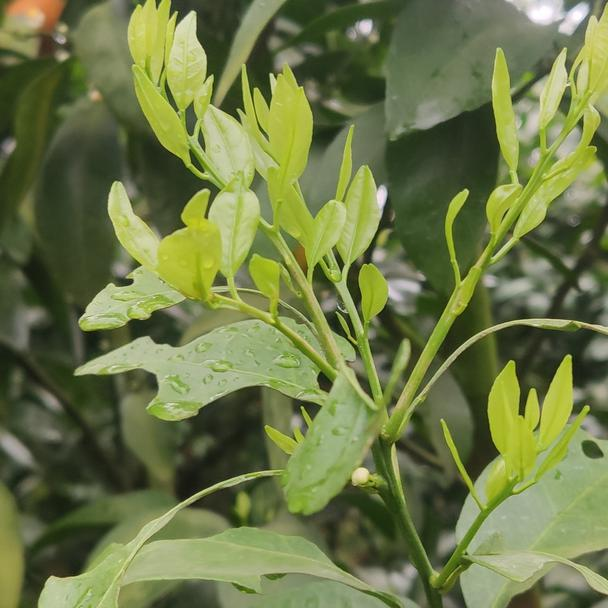shoot: (437, 20, 608, 278), (110, 2, 263, 224), (252, 78, 386, 289), (98, 190, 287, 332), (451, 352, 582, 530)
